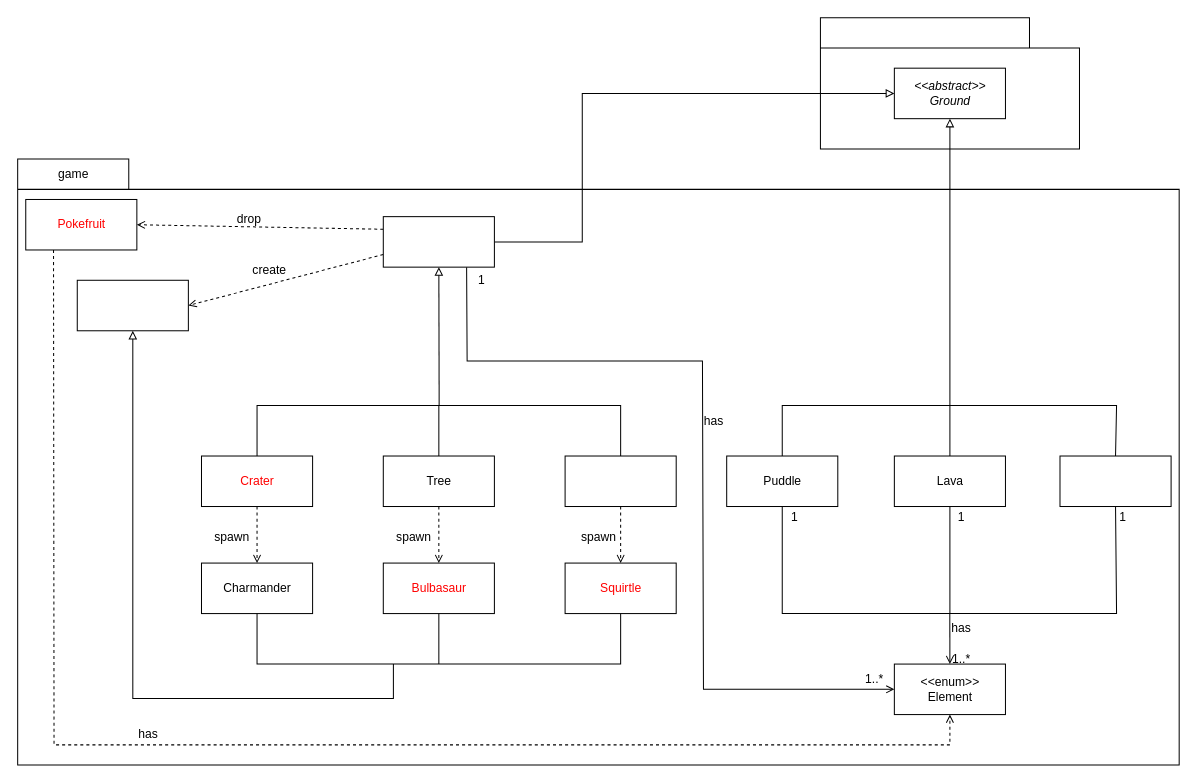
This 1197x783 diagram has some shape labels left out. The box of each missing label's shape, as (x1, y1, x2, y2) in pixels:
<<abstract>> SpawningGround: (382, 216, 494, 267)
edu.monash.fit2099.engine.positions: (819, 17, 1079, 149)
Hay: (1059, 455, 1171, 507)
Pokemon: (76, 279, 188, 331)
Waterfall: (564, 455, 676, 507)
